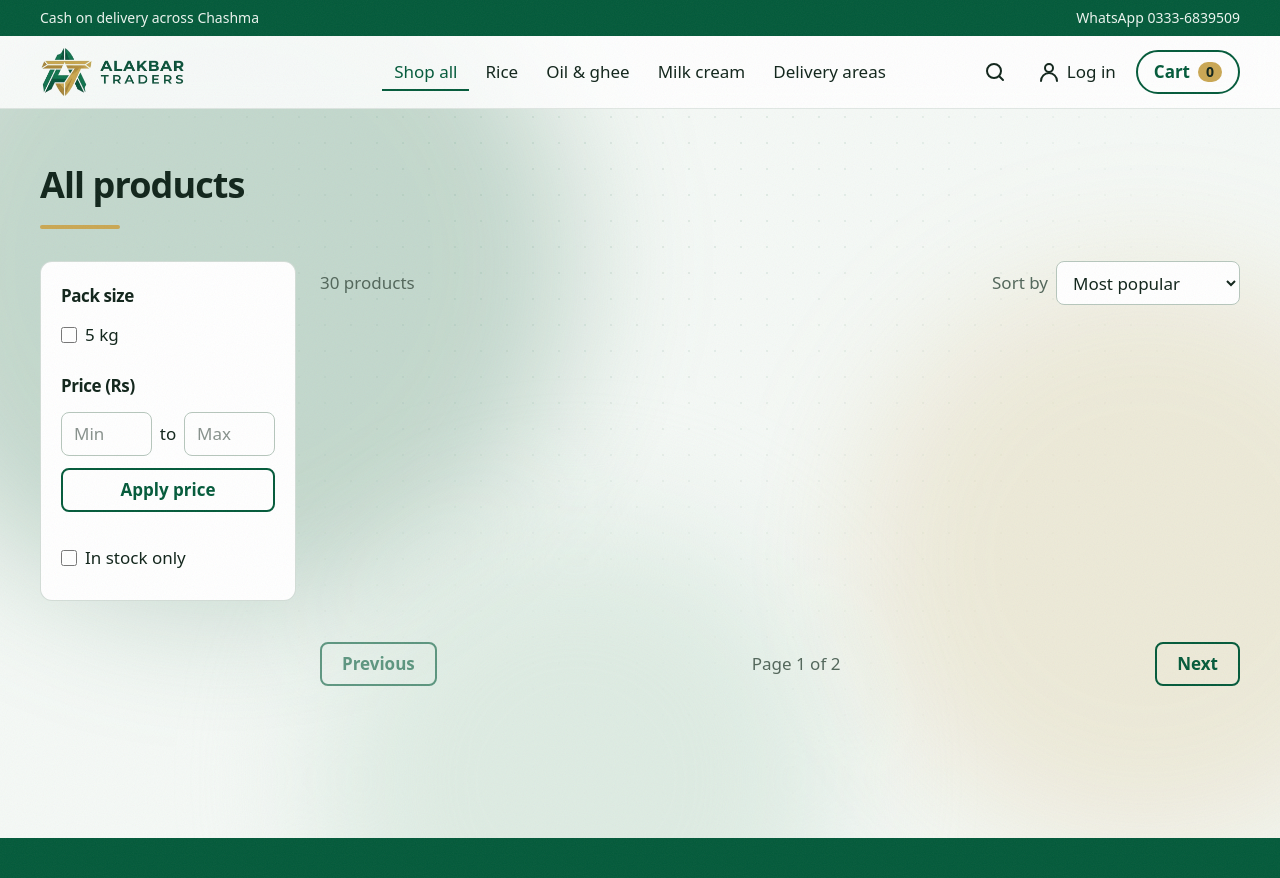
shop filters › moves to the next page and back
This screenshot has width=1280, height=878.
Check: the text "Page 1 of 2" is shown, box 752,650 -> 840,677
Check: the button "Previous" is disabled, box 320,642 -> 437,686
Click the button "Next" at point(1198, 664), box 1155,642 -> 1240,686
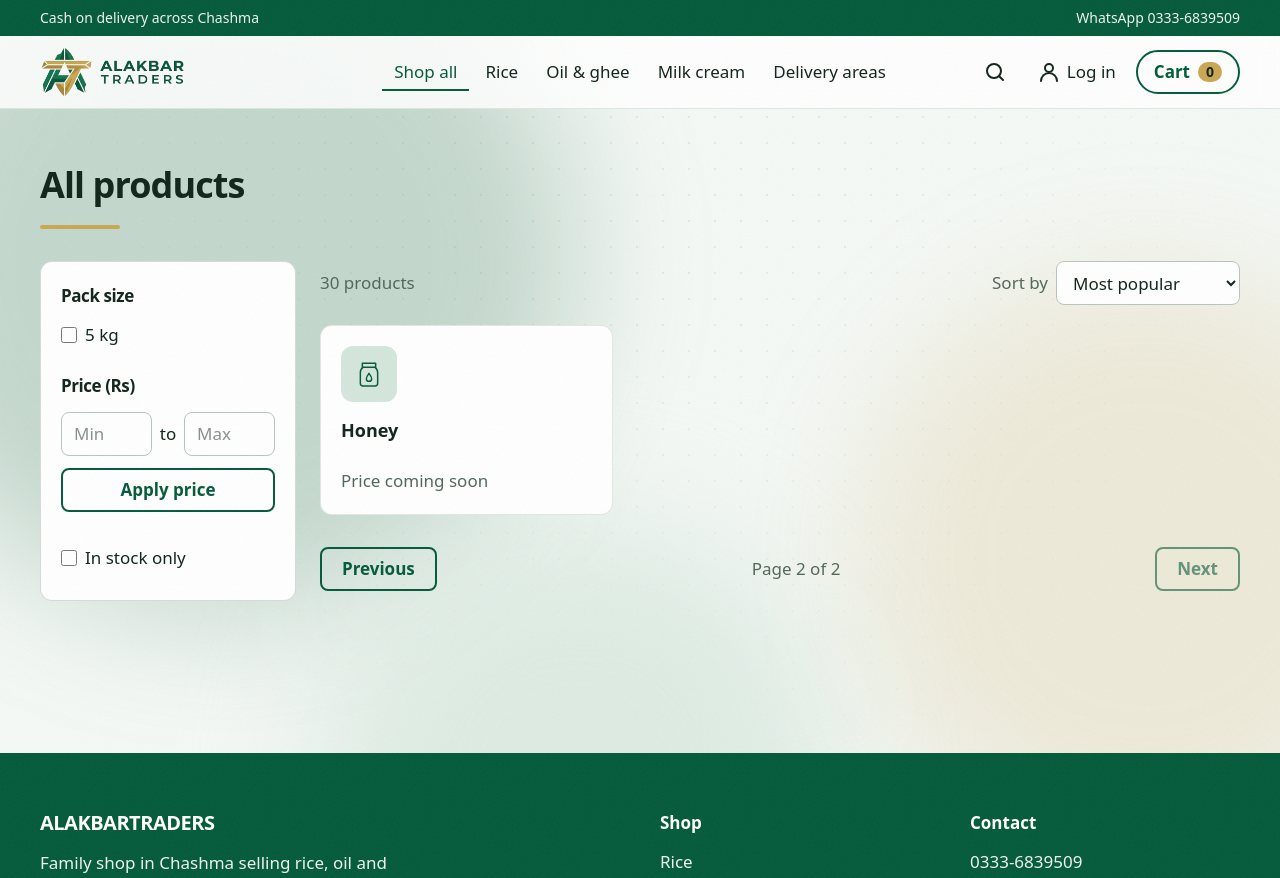
Check: the text "Page 2 of 2" is shown, box 752,555 -> 840,582
Check: the link "Honey" is shown, box 341,418 -> 398,442
Check: the button "Next" is disabled, box 1155,547 -> 1240,591
